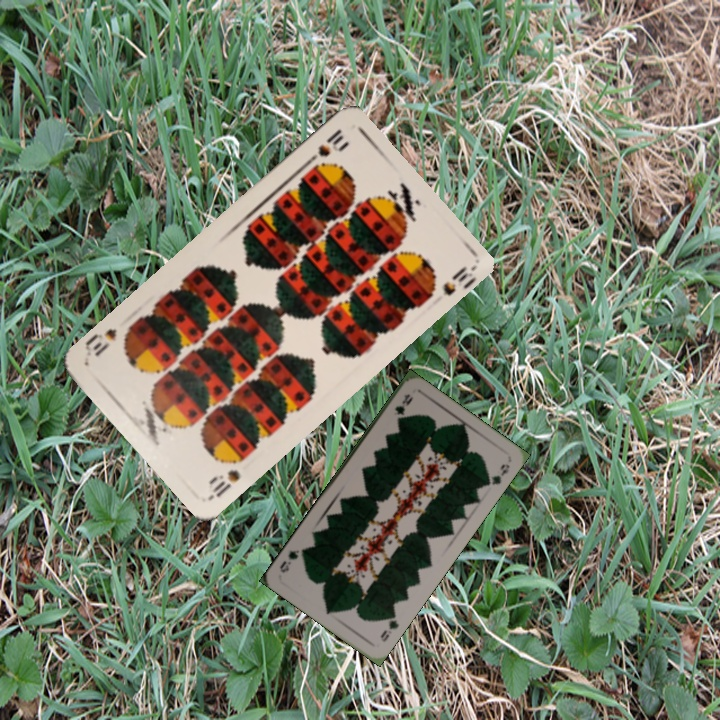G9: (376, 608, 402, 644), (390, 390, 416, 417)
S10: (300, 124, 351, 169), (206, 465, 243, 501)
